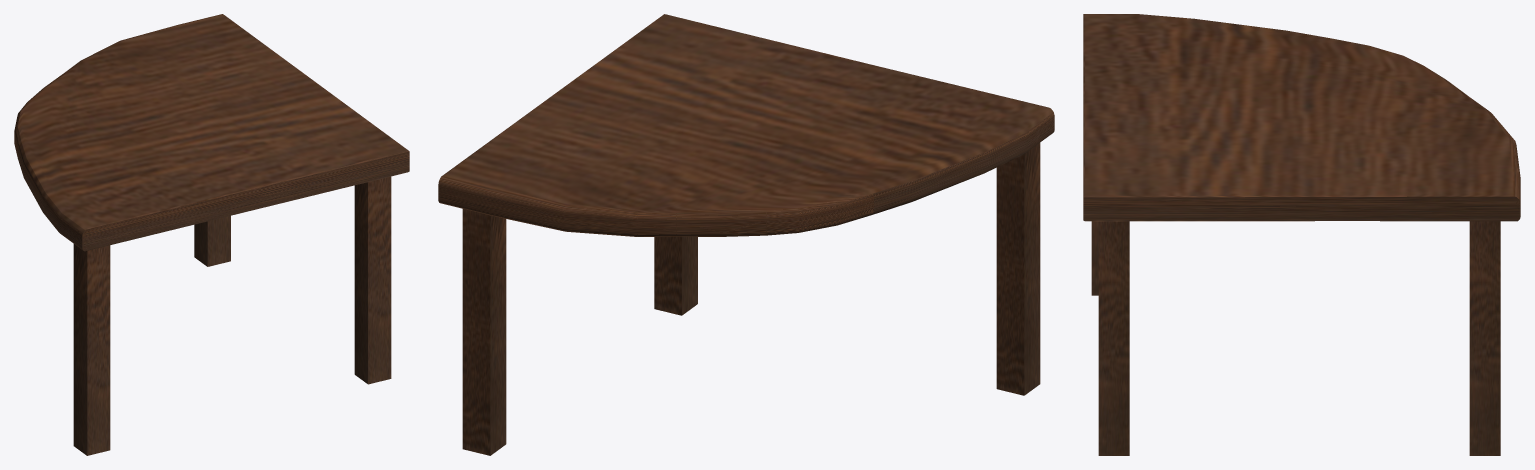
Rendered from table2.fbx.
3 renders of one model, left to right at view 1: azimuth 30°, elevation 25°; view 2: azimuth 150°, elevation 25°; view 3: azimuth 270°, elevation 25°, orthographic. The views are drawn at different scales.
Parts seen in each view (by area): view 1: pCube5; view 2: pCube5; view 3: pCube5.
Boxes of the visible parts, <box> form: pCube5: <box>14,14,409,455</box>; pCube5: <box>438,14,1054,455</box>; pCube5: <box>1083,14,1520,455</box>.
Size of the model in its own units: 7.65 by 5.14 by 7.65.
Materials: 1 (1 with a texture image).
